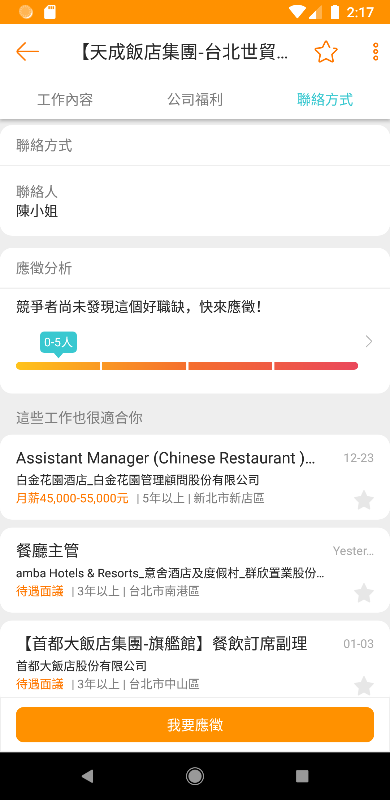button: (12, 704, 384, 748), (5, 30, 56, 72), (307, 31, 349, 73), (352, 28, 388, 74), (346, 483, 383, 517), (352, 323, 385, 359), (348, 577, 382, 608), (348, 669, 380, 698)
